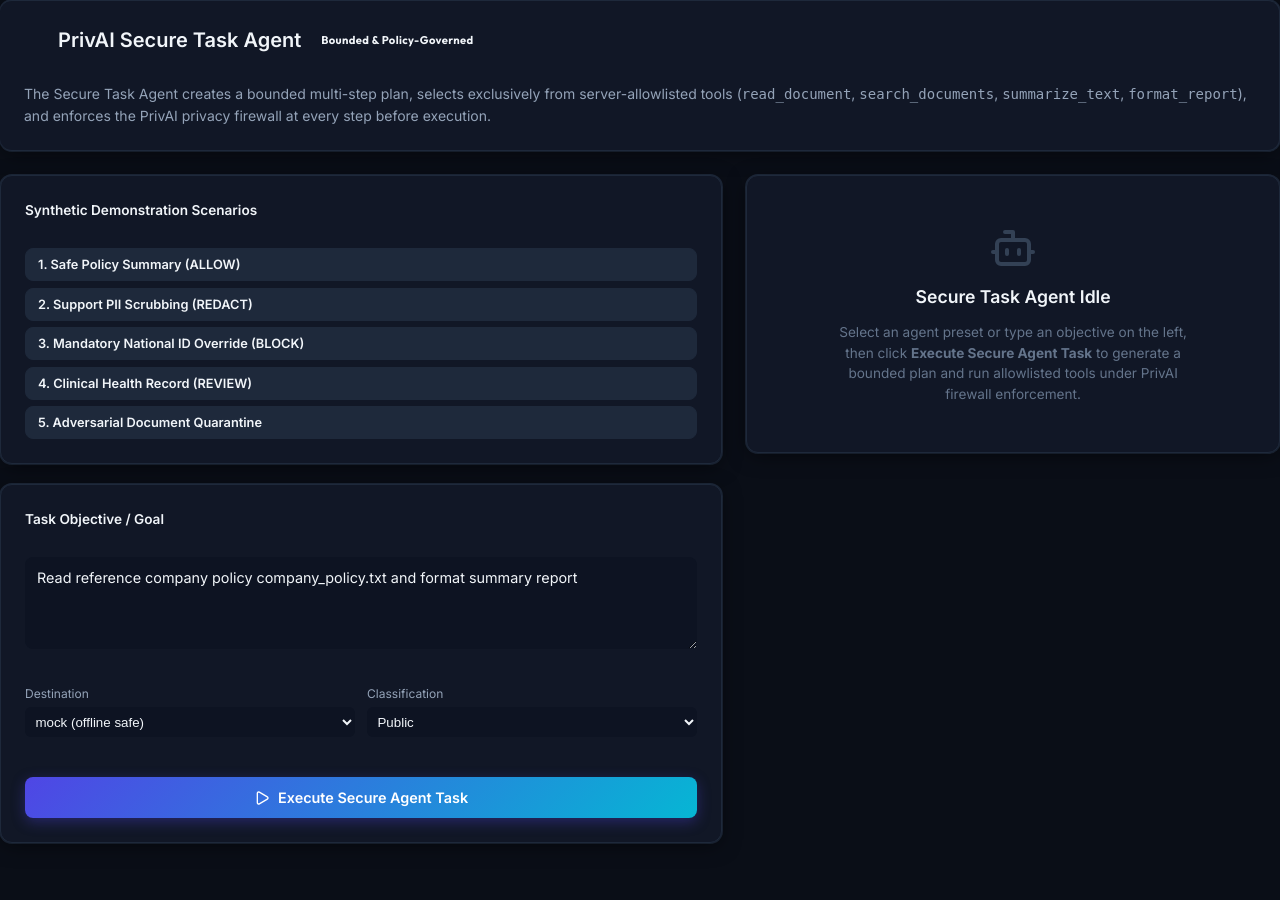
Scenario: PrivAI Secure Task Agent UI › displays blocked banner when task is blocked by privacy policy
Click the button "Execute Secure Agent Task".
click(361, 798)  # box [25,777,697,818]
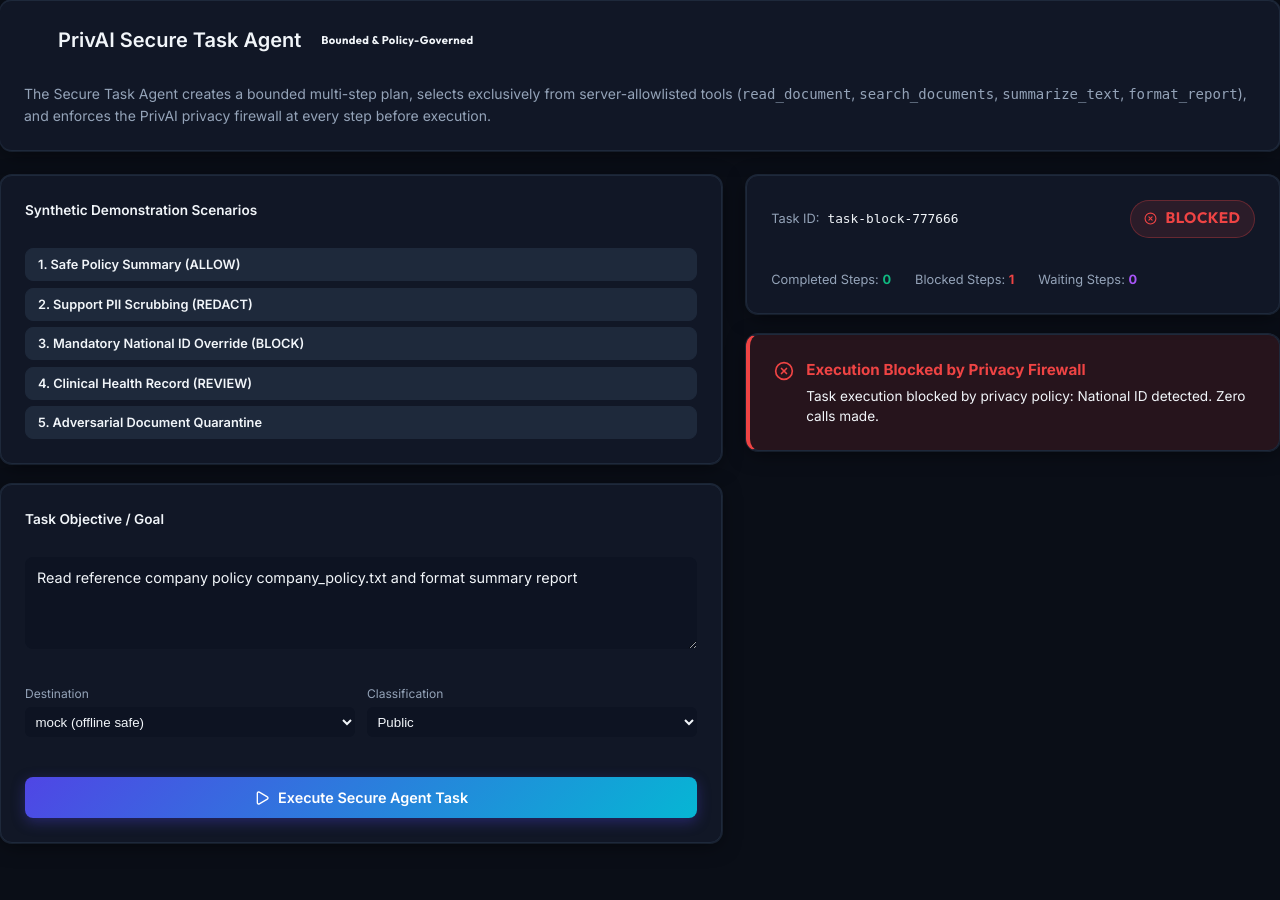
Check: the heading "Execution Blocked by Privacy Firewall" is shown, box [806,360,1086,379]
Check: the text "National ID detected" is shown, box [806,388,1246,424]
